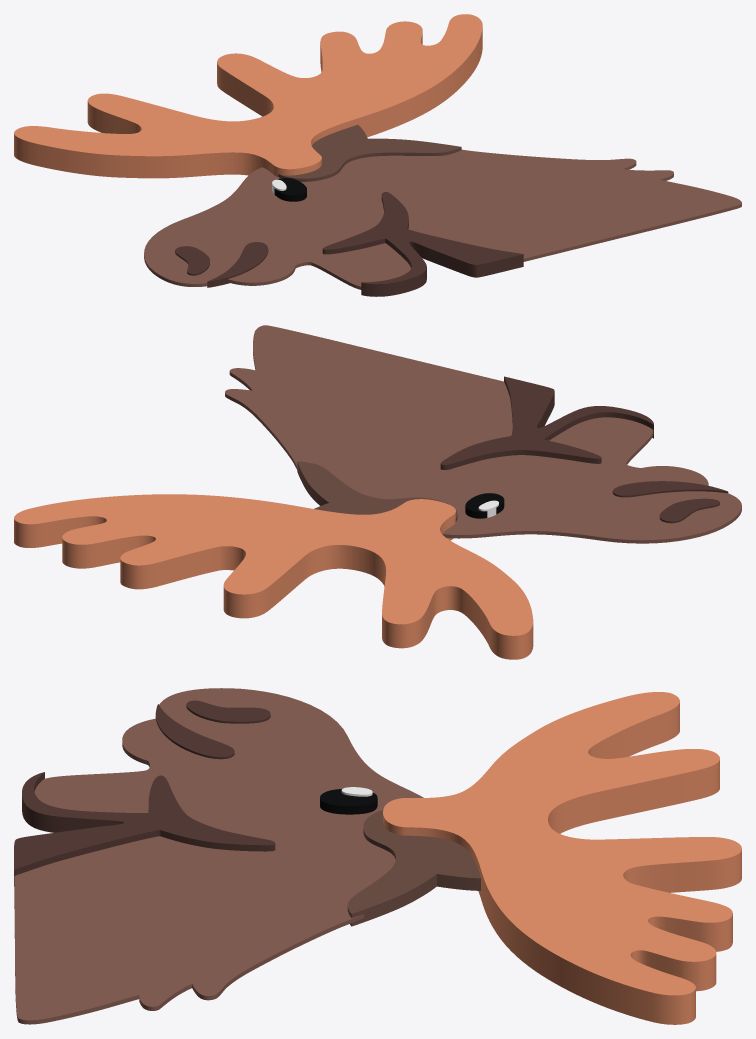
The model's file is emoji_u1face.glb.
The picture shows the model from 3 angles, top to bottom: view 1: azimuth 30°, elevation 25°; view 2: azimuth 150°, elevation 25°; view 3: azimuth 270°, elevation 25°; orthographic projection. The views are drawn at different scales.
Visible parts, largest first — view 1: emoji_u1face; view 2: emoji_u1face; view 3: emoji_u1face.
Part boxes in pixels (box(x1,y1,x2,y2)): emoji_u1face: box(14, 14, 741, 296); emoji_u1face: box(14, 325, 741, 659); emoji_u1face: box(14, 688, 741, 1024).
Bounding box in the file's own units: 0.0339 × 0.0014 × 0.0314.
